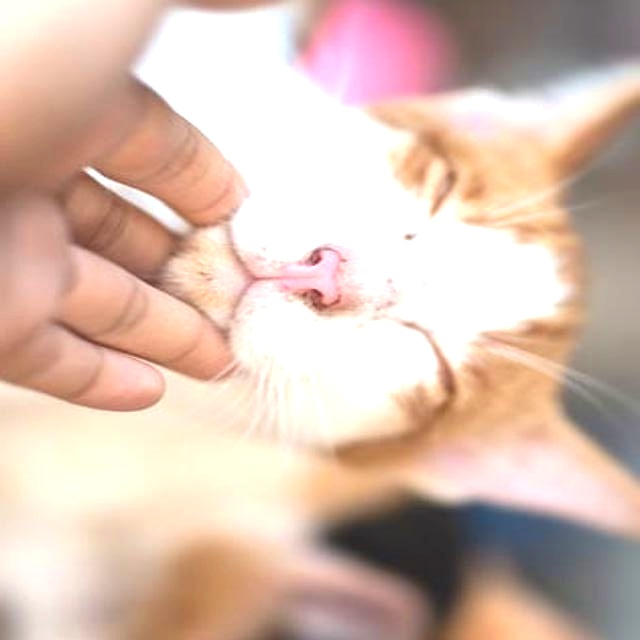acne: (347, 274, 438, 339)
